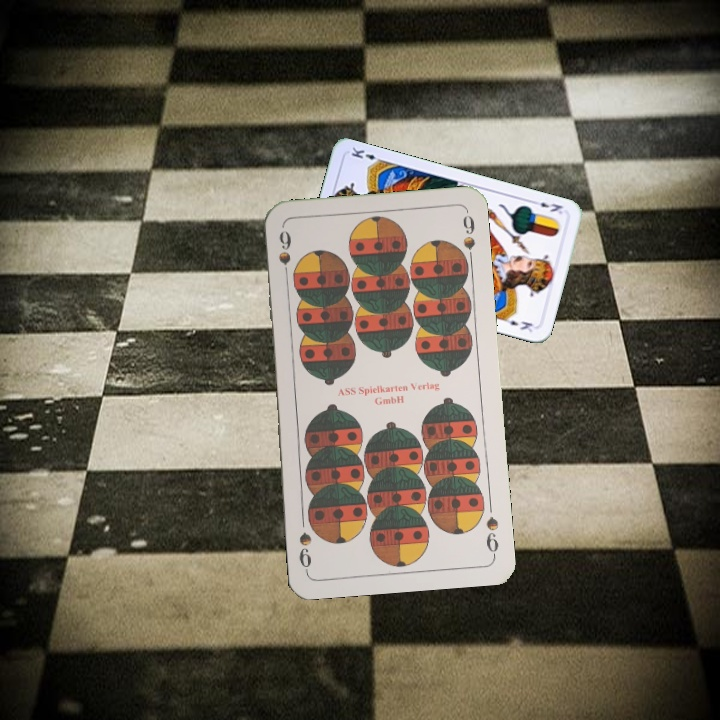EK: (528, 196, 565, 216)
S9: (274, 227, 294, 284), (482, 513, 501, 559)
